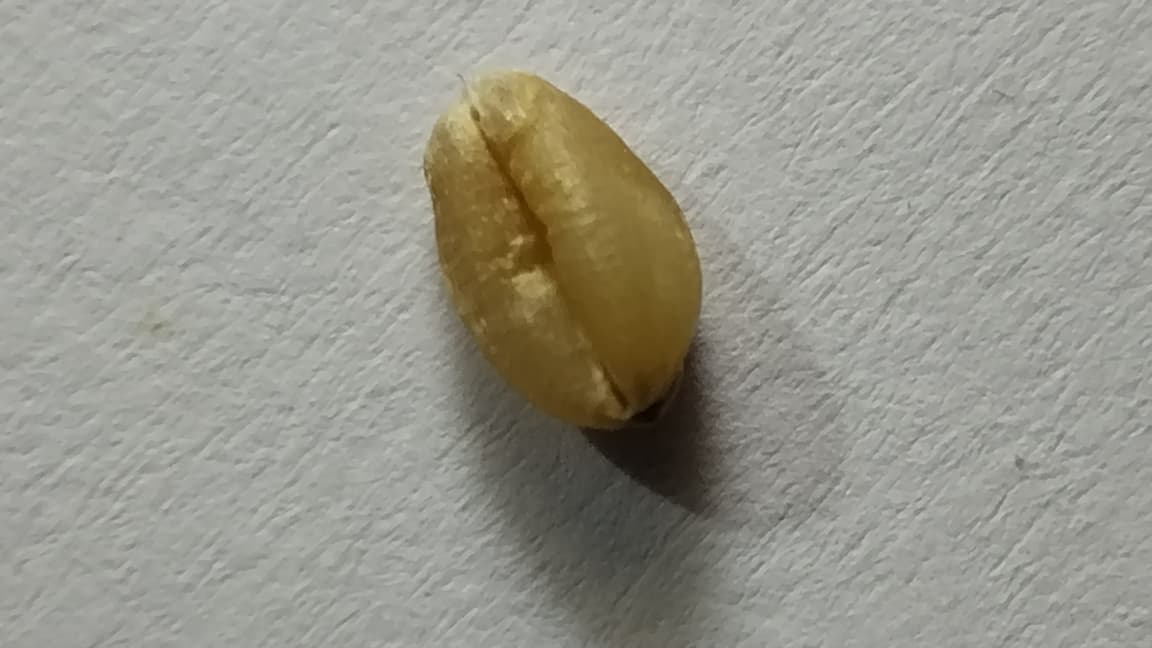healthy: (424, 72, 701, 420)
